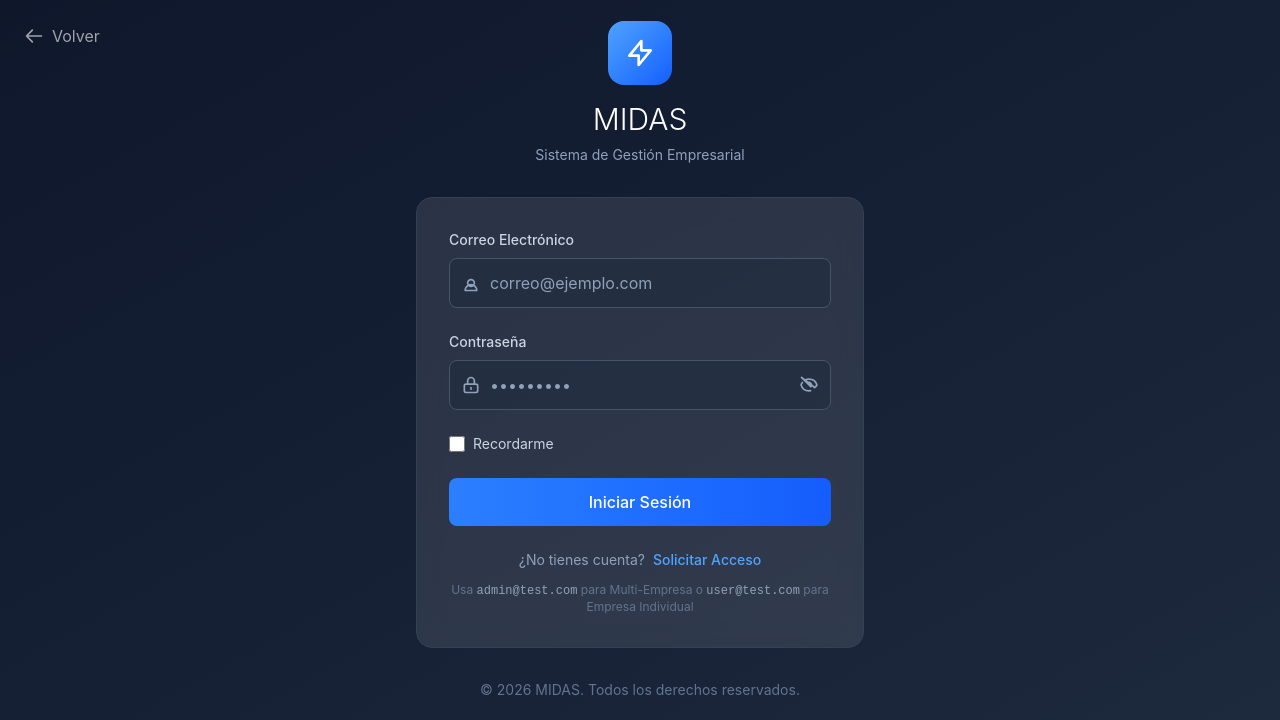
Test: Login Flow › should show error for invalid credentials
Type "wrong@email.com" into the field with id "email". click: (640, 283)
box: left=449, top=258, right=831, bottom=308
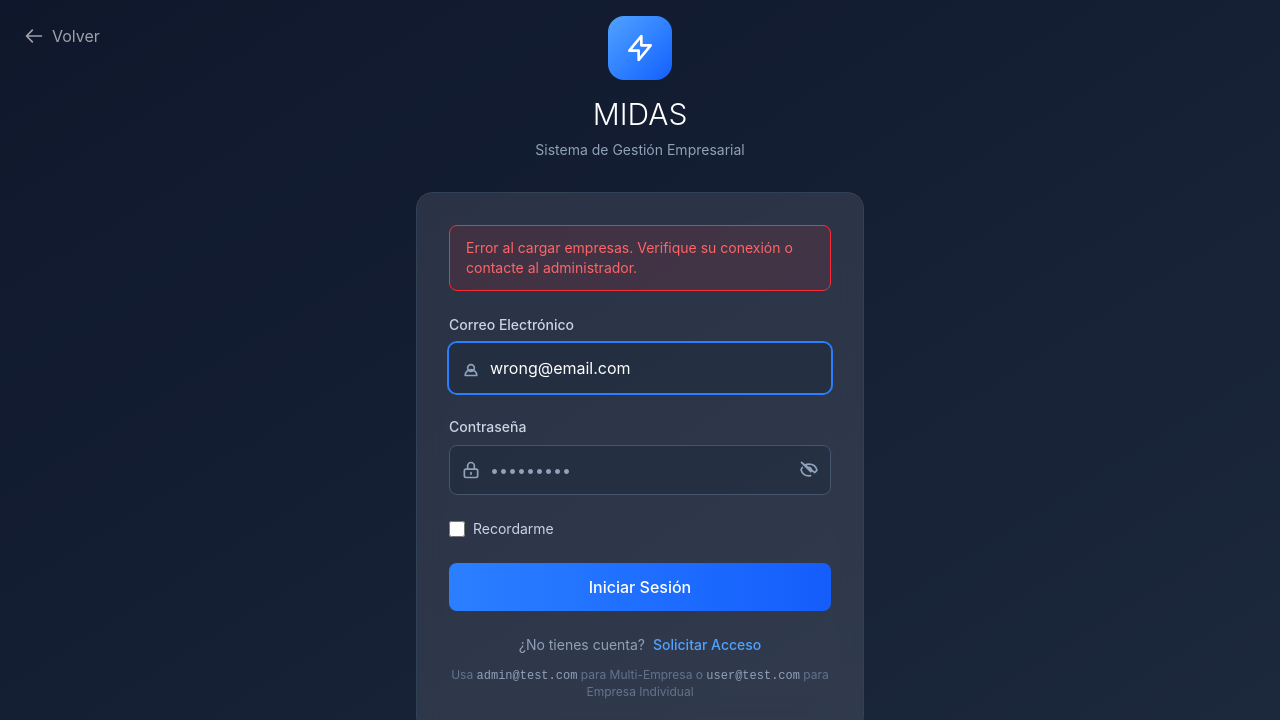
Type "wrongpassword" into the password field labelled "Contraseña". click: (640, 470)
box: left=449, top=445, right=831, bottom=495
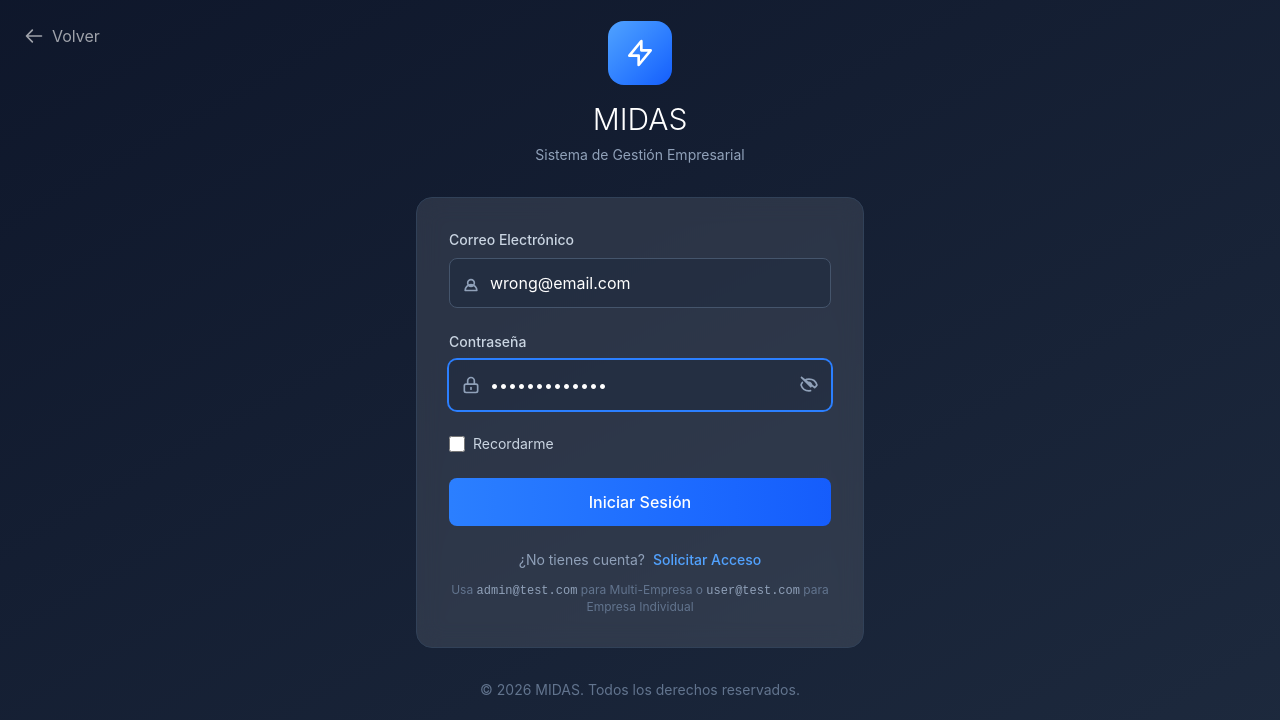
Click the button "Iniciar Sesión". click: (640, 502)
box: left=449, top=478, right=831, bottom=526
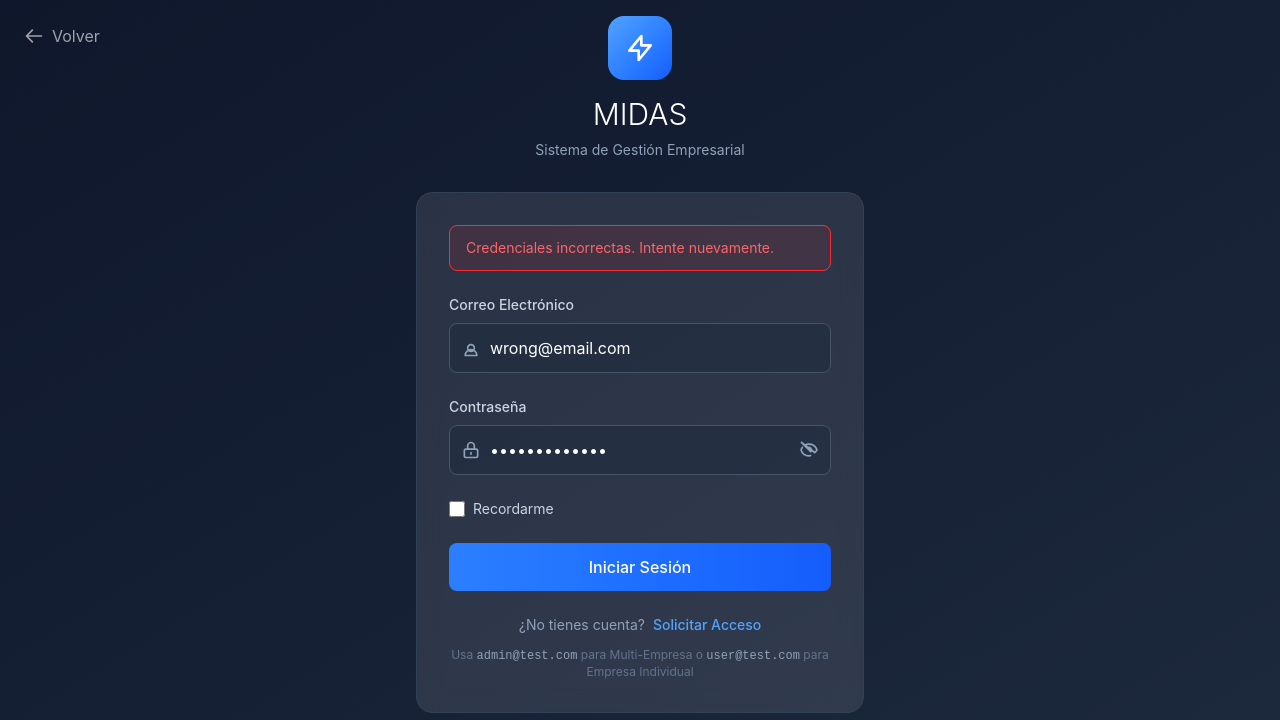
Result: the text "Credenciales incorrectas" is shown at left=466, top=239, right=774, bottom=256
